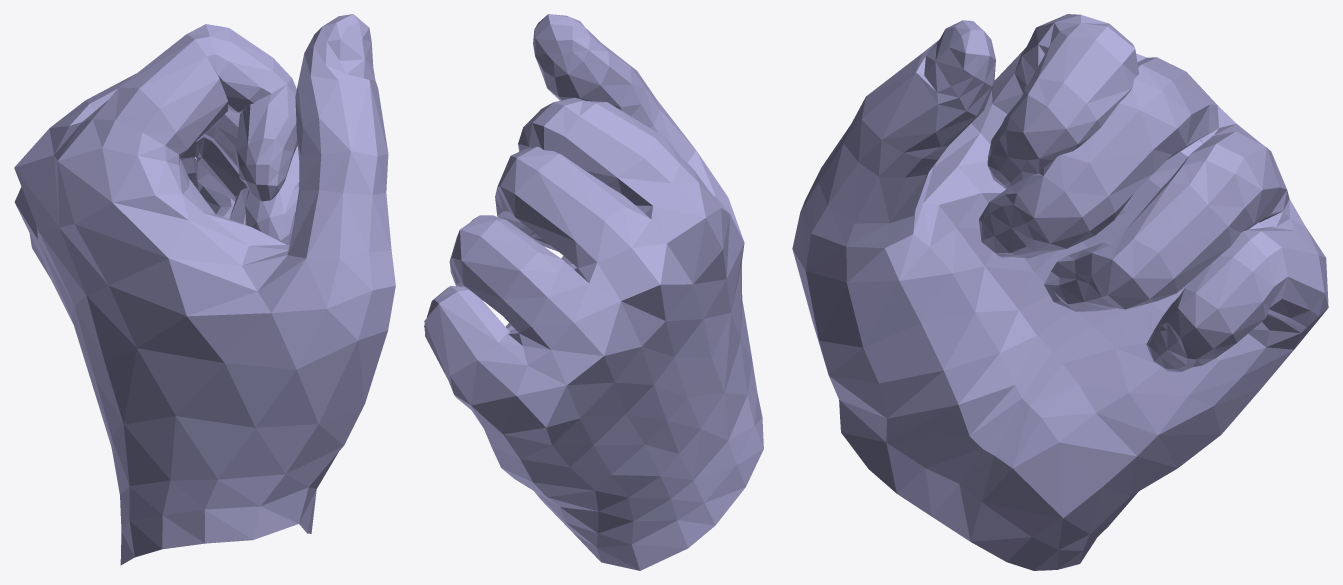
Rendered from frame_0039_source_000039_hand.glb.
3 renders of one model, left to right at view 1: azimuth 30°, elevation 25°; view 2: azimuth 150°, elevation 25°; view 3: azimuth 270°, elevation 25°, orthographic. The views are drawn at different scales.
Visible parts, largest first — view 1: world; view 2: world; view 3: world.
Part boxes in pixels (bbox=[...]): world: bbox=[14, 14, 395, 565]; world: bbox=[424, 14, 763, 570]; world: bbox=[792, 14, 1328, 570].
Size of the model in its own units: 0.0596 by 0.1222 by 0.1003.
